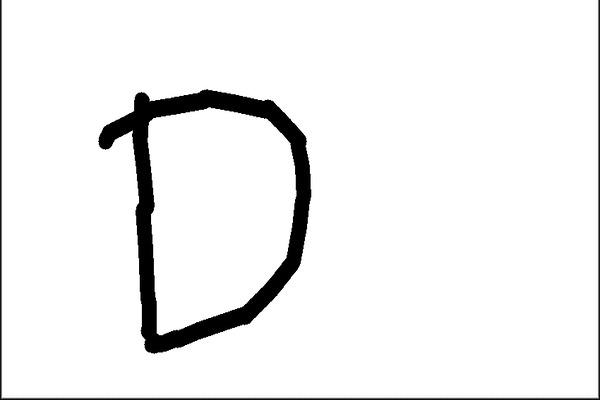D: (92, 81, 320, 356)
